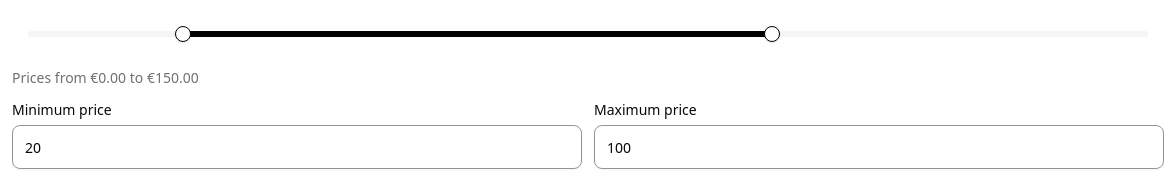
Test: PriceRange › typing a number › pulls a minimum that passed the maximum back to it when the field is left
The image size is (1176, 189).
Replace the text in the number field labelled "Minimum price" with "130" at (297, 147), box [12, 125, 582, 169]
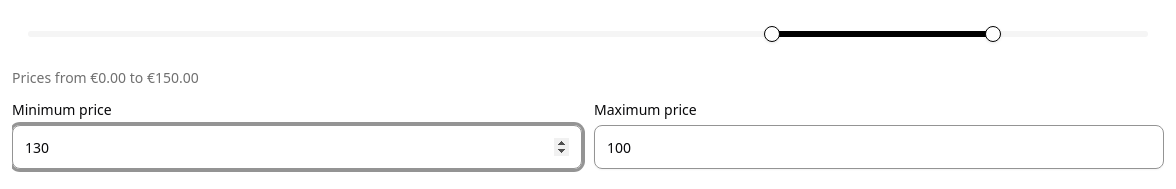
Press Tab
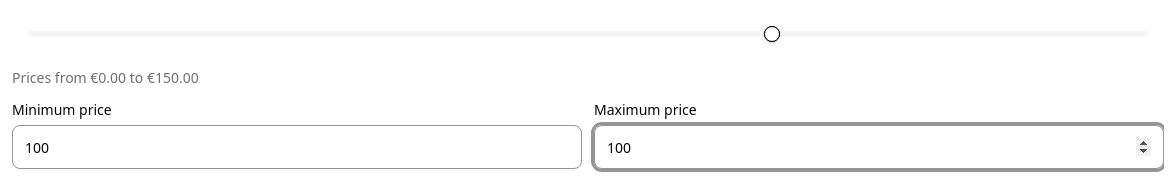
Now the number field labelled "Minimum price" holds "100", box [12, 125, 582, 169]
